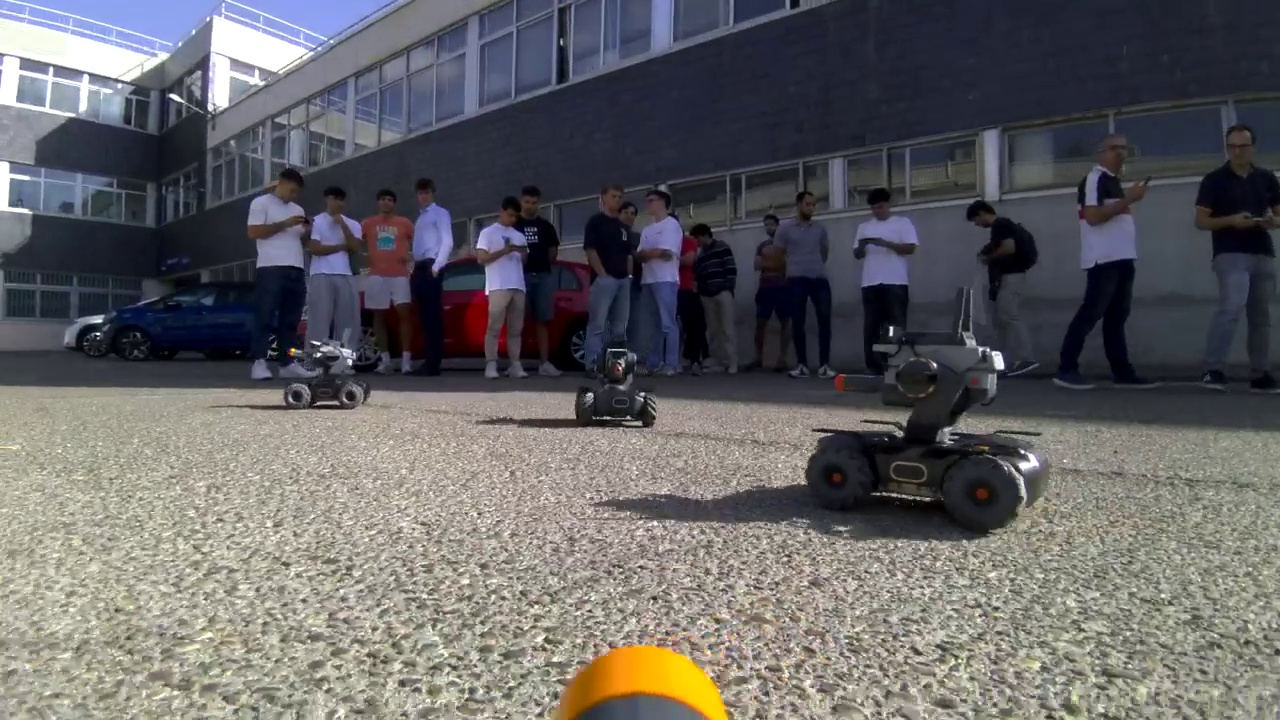robot: (809, 282, 1048, 527), (282, 335, 370, 415), (576, 349, 660, 421)
